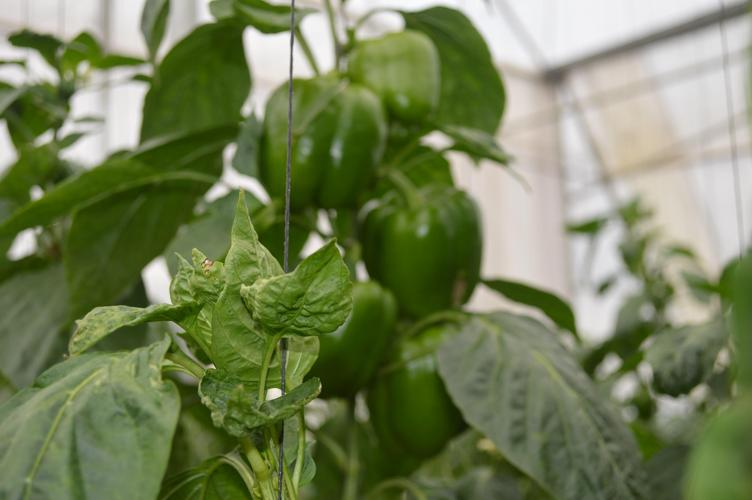BellPepper: (259, 87, 382, 210), (358, 203, 478, 323), (282, 285, 391, 394), (338, 35, 445, 142), (368, 337, 472, 441)
